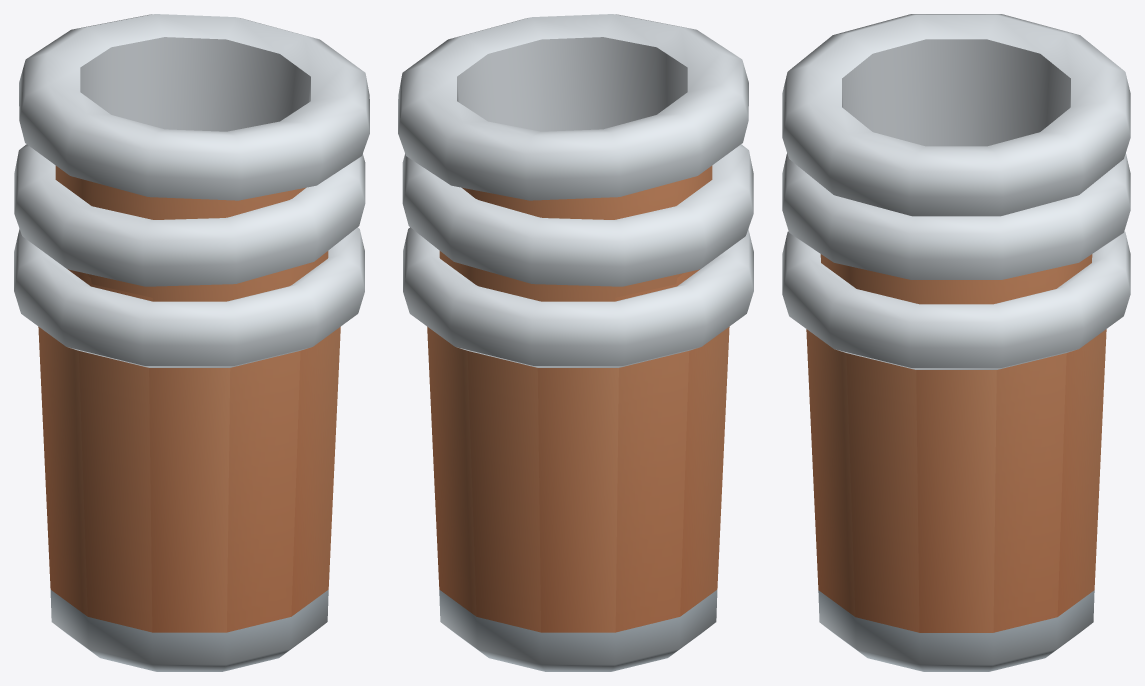
The model's file is coffee-cup-takeaway-stacked.glb.
3 views of the same model, side by side, from view 1: azimuth 30°, elevation 25°; view 2: azimuth 150°, elevation 25°; view 3: azimuth 270°, elevation 25° (orthographic).
Parts seen in each view (by area): view 1: coffee_cup_takeaway_stacked; view 2: coffee_cup_takeaway_stacked; view 3: coffee_cup_takeaway_stacked.
Boxes of the visible parts, box(x1,y1,x2,y2) form: coffee_cup_takeaway_stacked: box(14, 14, 369, 671); coffee_cup_takeaway_stacked: box(398, 14, 753, 671); coffee_cup_takeaway_stacked: box(782, 14, 1130, 671).
Bounding box in the file's own units: 0.3472 × 0.5915 × 0.3419.
Materials: 1 (1 with a texture image).
